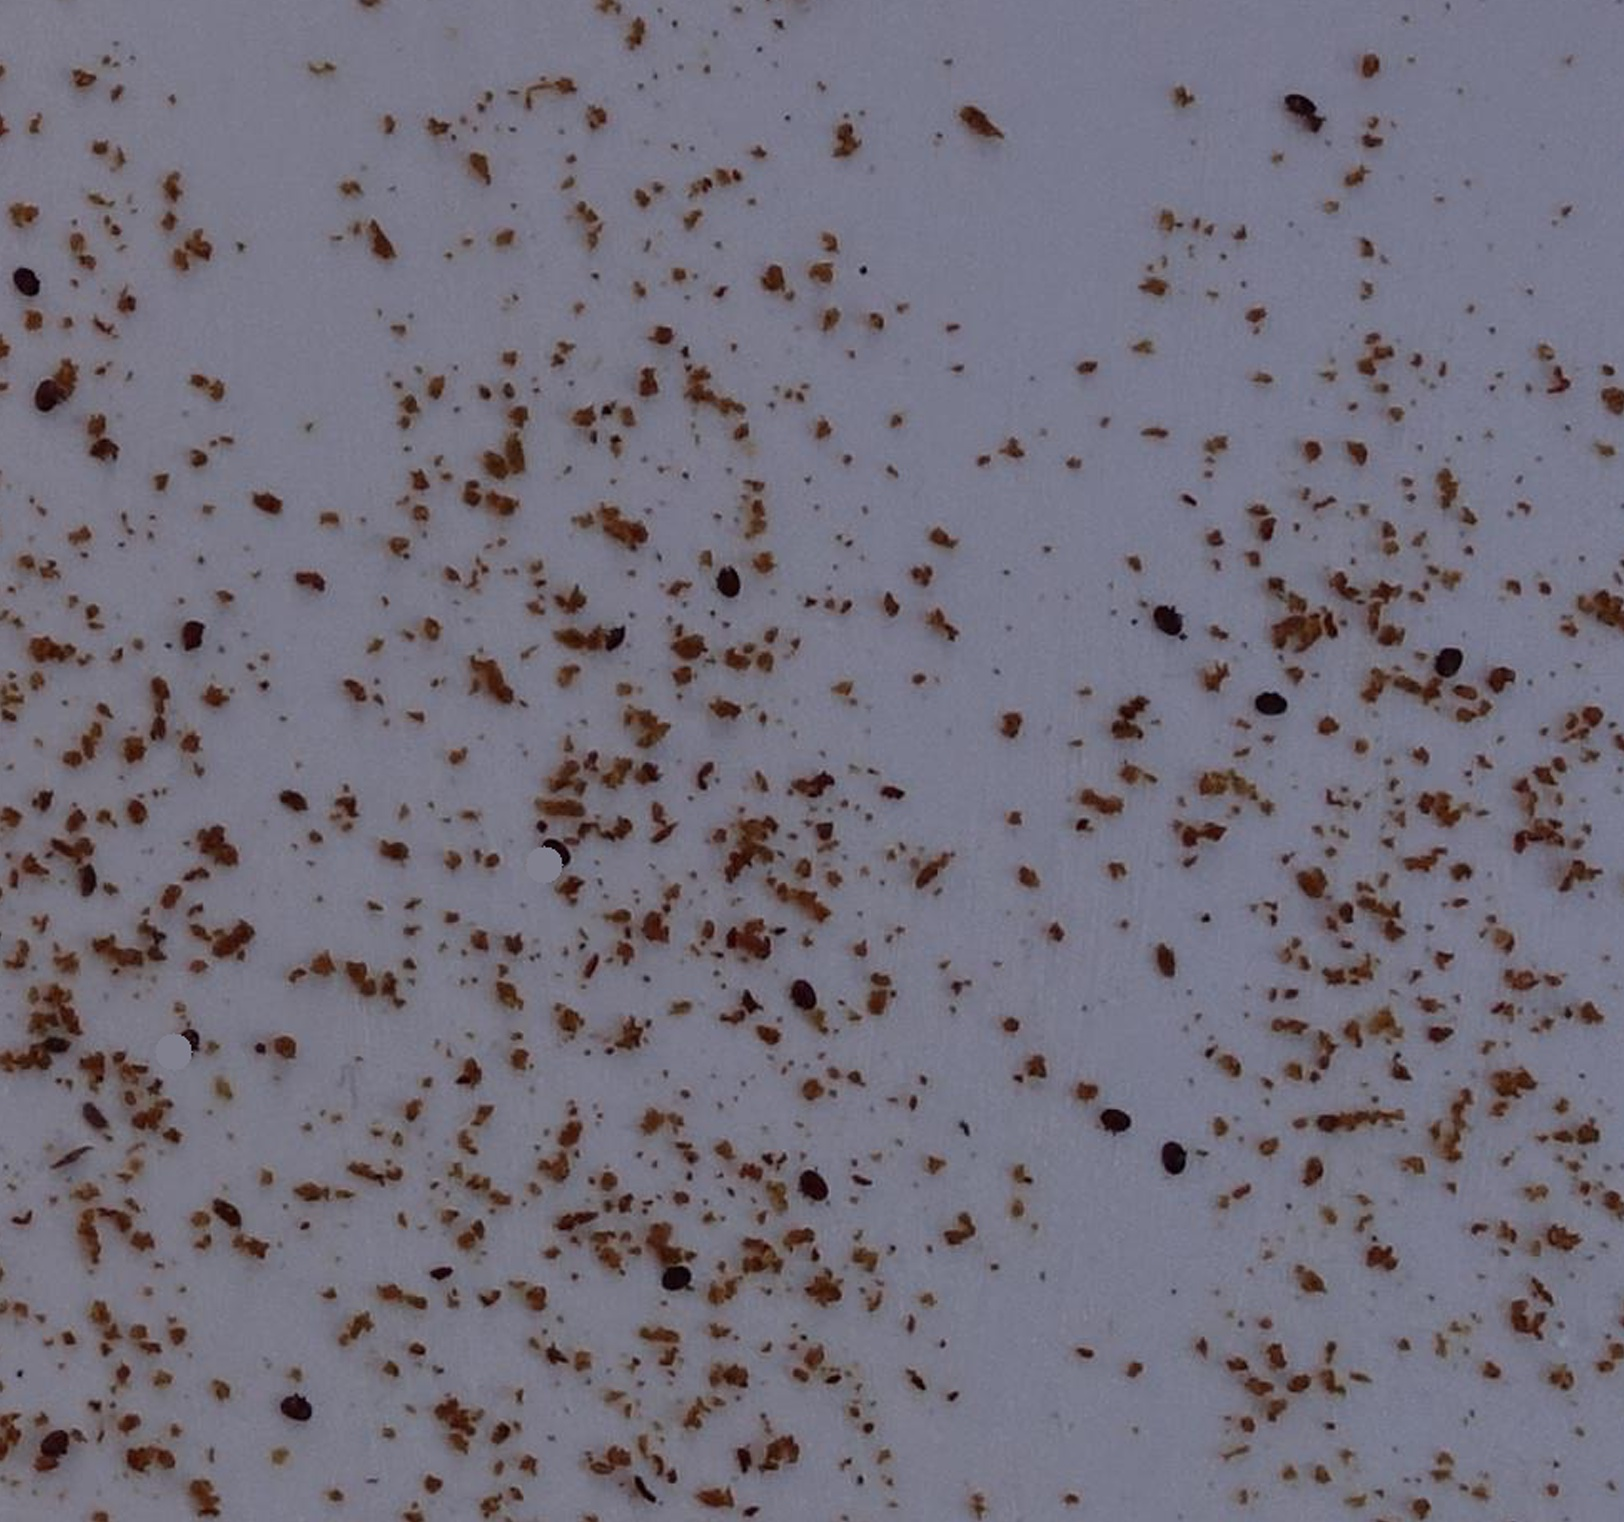Varroa: (1281, 79, 1325, 124), (30, 383, 60, 413), (788, 981, 818, 1010), (1429, 649, 1459, 677), (41, 1429, 69, 1458), (1258, 691, 1286, 717), (1097, 1103, 1125, 1129), (1155, 602, 1180, 628), (175, 1021, 199, 1049), (803, 1174, 828, 1199), (276, 1399, 302, 1423), (552, 840, 575, 865), (601, 624, 624, 649), (1160, 1149, 1180, 1170), (665, 1273, 684, 1295), (19, 267, 39, 285), (717, 572, 737, 588)
